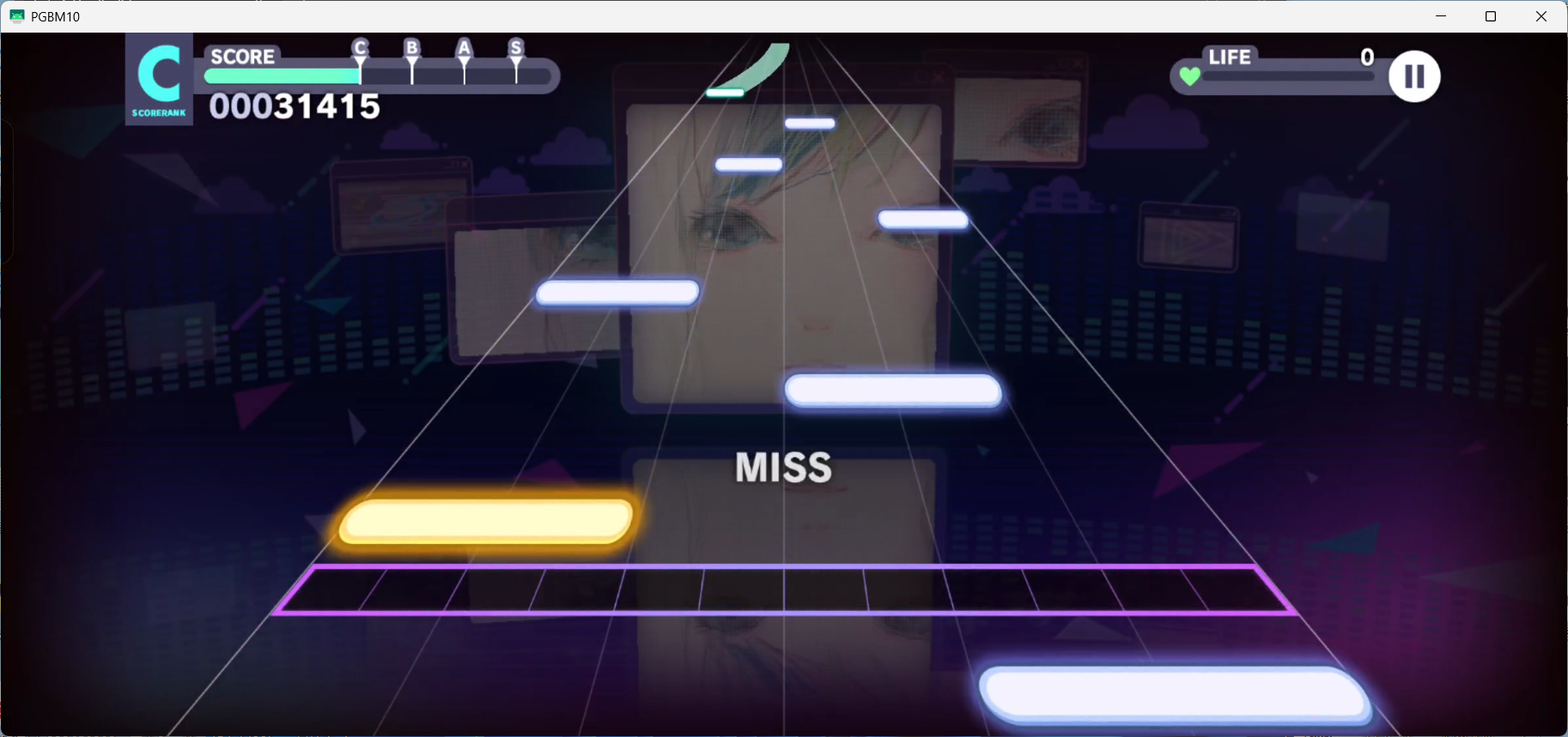hold: (714, 44, 788, 88)
tap: (976, 666, 1371, 728), (337, 498, 632, 546), (784, 375, 1003, 410), (534, 280, 700, 306), (878, 209, 969, 231), (715, 158, 781, 172), (785, 118, 834, 129), (706, 88, 743, 97)
